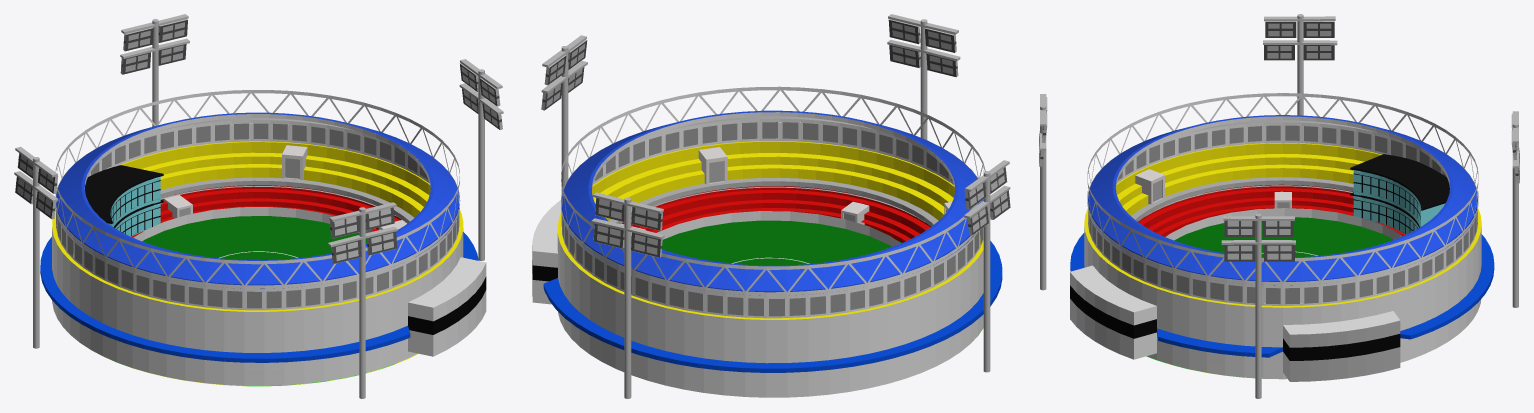
The model's file is Cricket.glb.
3 views of the same model, side by side, from view 1: azimuth 30°, elevation 25°; view 2: azimuth 150°, elevation 25°; view 3: azimuth 270°, elevation 25° (orthographic). The views are drawn at different scales.
Visible parts, largest first — view 1: Cylinder021_1, Cylinder023, Cylinder023_2, Cylinder023_1, Circle, Cylinder021, Cylinder021_4, Cylinder007, Cube016, Cylinder008, Cylinder009_2, Cube017 (+14 smaller); view 2: Cylinder021_1, Cylinder023, Cylinder023_2, Cylinder023_1, Circle, Cylinder021_4, Cylinder021, Cylinder007, Cylinder008, Cube015, Cylinder006, Cube017 (+12 smaller); view 3: Cylinder021_1, Cylinder023, Cylinder023_2, Cylinder023_1, Circle, Cylinder021, Cylinder021_2, Cylinder021_4, Cylinder009_2, Cube018, Cylinder009_1, Cylinder007 (+13 smaller).
Boxes of the visible parts, <box> form: Cylinder021_1: <box>52,175,486,385</box>; Cylinder023: <box>55,90,459,310</box>; Cylinder023_2: <box>55,112,460,288</box>; Cylinder023_1: <box>56,123,459,308</box>; Circle: <box>134,207,373,260</box>; Cylinder021: <box>52,141,463,386</box>; Cylinder021_4: <box>40,232,478,362</box>; Cylinder007: <box>160,164,423,217</box>; Cube016: <box>328,202,397,398</box>; Cylinder008: <box>141,152,429,206</box>; Cylinder009_2: <box>85,165,163,235</box>; Cube017: <box>14,146,58,348</box>; Cylinder021_1: <box>532,200,983,397</box>; Cylinder023: <box>561,86,985,318</box>; Cylinder023_2: <box>561,110,983,295</box>; Cylinder023_1: <box>561,122,982,316</box>; Circle: <box>657,211,901,265</box>; Cylinder021_4: <box>543,241,1002,372</box>; Cylinder021: <box>557,141,983,341</box>; Cylinder007: <box>605,164,944,220</box>; Cylinder008: <box>593,153,953,206</box>; Cube015: <box>591,192,664,398</box>; Cylinder006: <box>609,177,938,226</box>; Cube017: <box>964,160,1010,372</box>; Cylinder021_1: <box>1070,226,1481,381</box>; Cylinder023: <box>1087,93,1478,305</box>; Cylinder023_2: <box>1088,115,1477,285</box>; Cylinder023_1: <box>1088,125,1477,304</box>; Circle: <box>1165,208,1402,257</box>; Cylinder021: <box>1084,143,1481,373</box>; Cylinder021_2: <box>1290,320,1400,381</box>; Cylinder021_4: <box>1070,233,1494,357</box>; Cylinder009_2: <box>1350,154,1449,233</box>; Cube018: <box>1221,213,1295,398</box>; Cylinder009_1: <box>1351,169,1445,234</box>; Cylinder007: <box>1122,164,1353,215</box>.
Bounding box in the file's own units: 2 × 0.8365 × 2.
